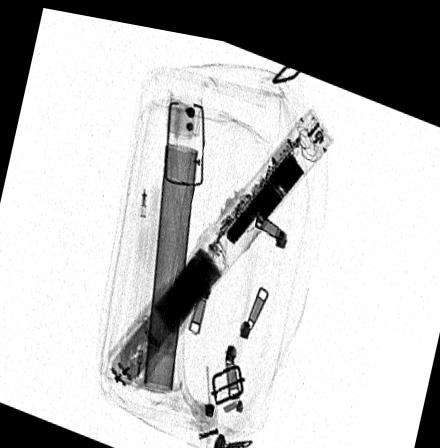Baton: (105, 94, 336, 395)
